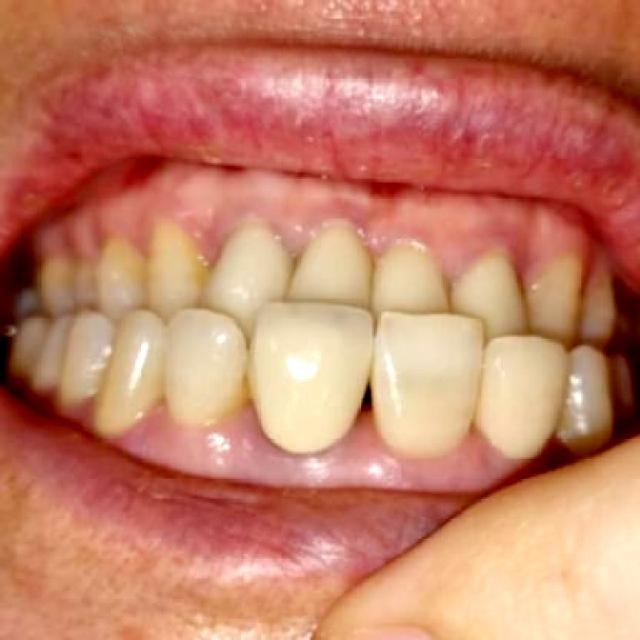Plaque: (205, 400, 398, 487), (170, 208, 232, 264), (428, 233, 481, 286), (264, 215, 318, 258), (356, 228, 398, 257)
